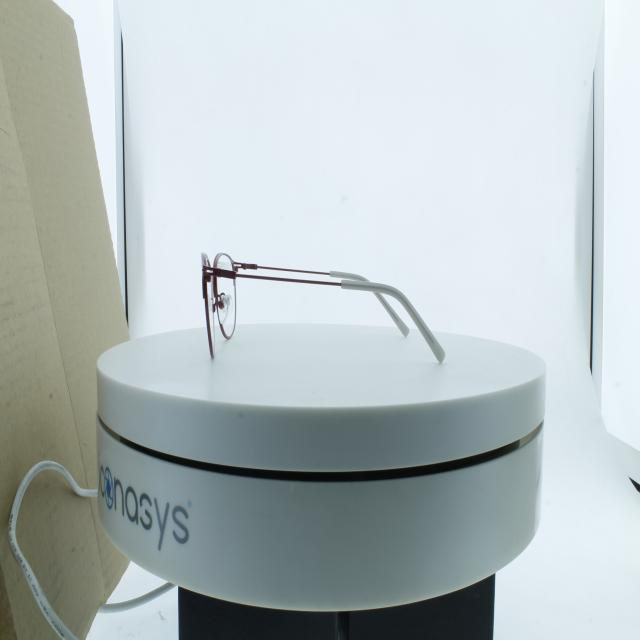Specs: (182, 225, 462, 393)
